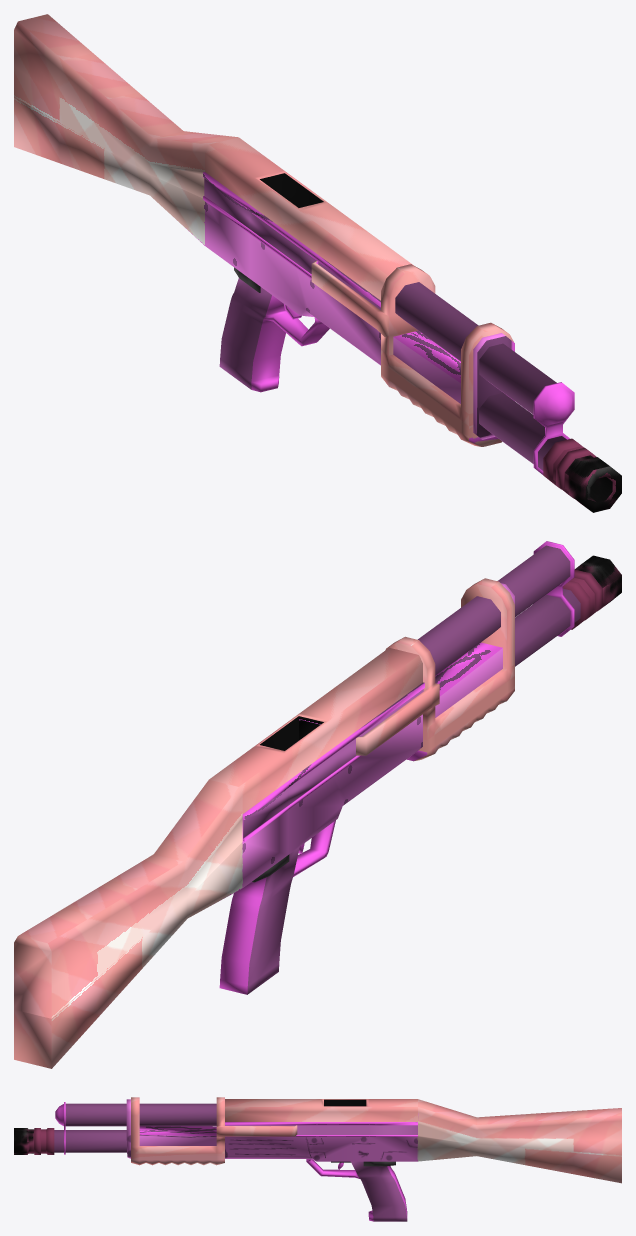
File: shotgun.glb
3 views of the same model, one above another, from view 1: azimuth 30°, elevation 25°; view 2: azimuth 150°, elevation 25°; view 3: azimuth 270°, elevation 25° (orthographic). The views are drawn at different scales.
Visible parts, largest first — view 1: shotgunFrame, shotGunSlide; view 2: shotgunFrame, shotGunSlide; view 3: shotgunFrame, shotGunSlide.
Boxes of the visible parts, x1,y1,x2,y2 form: shotgunFrame: (14, 14, 621, 512); shotGunSlide: (311, 260, 513, 446); shotgunFrame: (14, 541, 621, 1068); shotGunSlide: (356, 578, 514, 761); shotgunFrame: (14, 1099, 621, 1221); shotGunSlide: (131, 1097, 297, 1165).
Bounding box in the file's own units: 0.0771 × 0.2998 × 1.39.
Materials: 3 (3 with a texture image).
